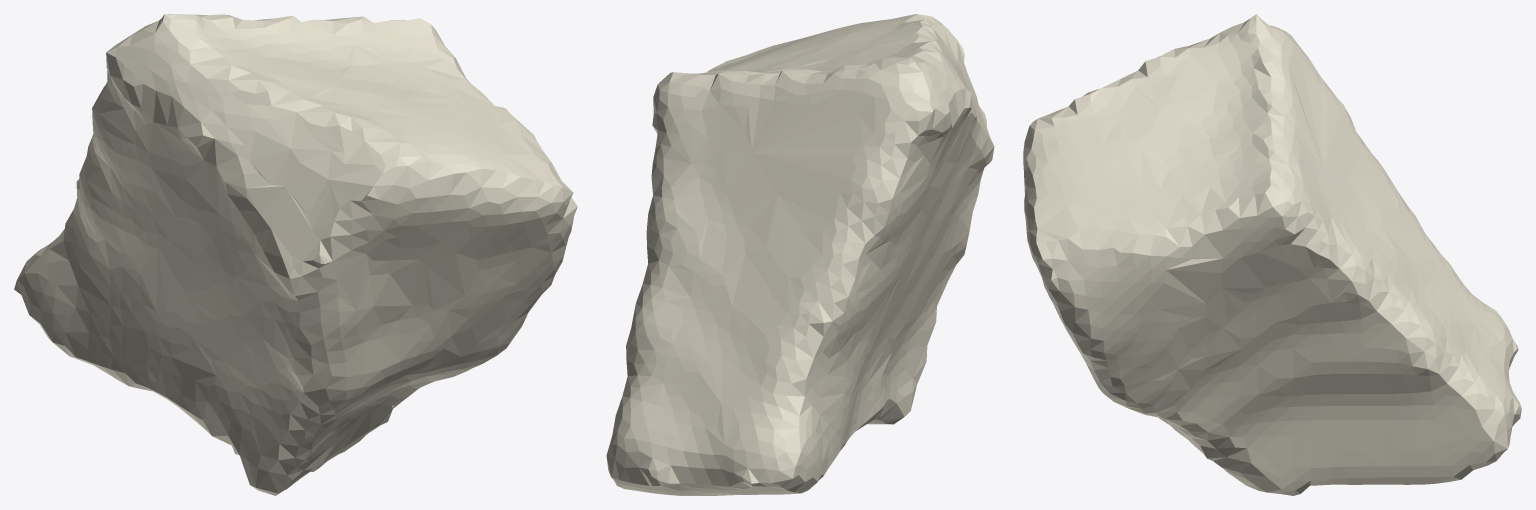
File: Model_10075_LH__Area_47_(old_12)_of_cortex__orbital_part_(A47O).obj
3 renders of one model, left to right at view 1: azimuth 30°, elevation 25°; view 2: azimuth 150°, elevation 25°; view 3: azimuth 270°, elevation 25°, orthographic. The views are drawn at different scales.
Bounding box in the file's own units: 1.9 × 2.53 × 2.84.
